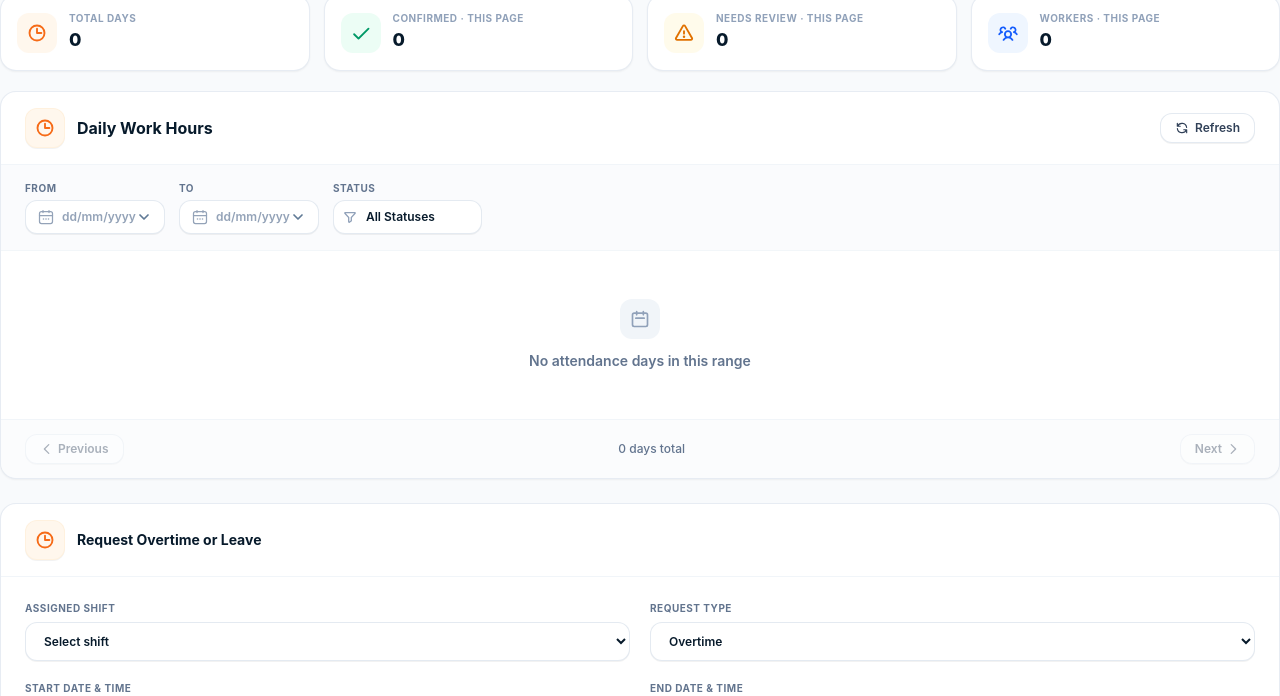
Test: MF03 interactive UI › hides past workdays and exposes separate overtime dates and times with shift defaults
This screenshot has width=1280, height=696.
Select "2030-10-08 · Morning · 08:00–17:00 (Asia/Ho_Chi_Minh)" in the dropdown labelled "Assigned shift": [328, 642] box left=25, top=622, right=630, bottom=661
(page scrolled)
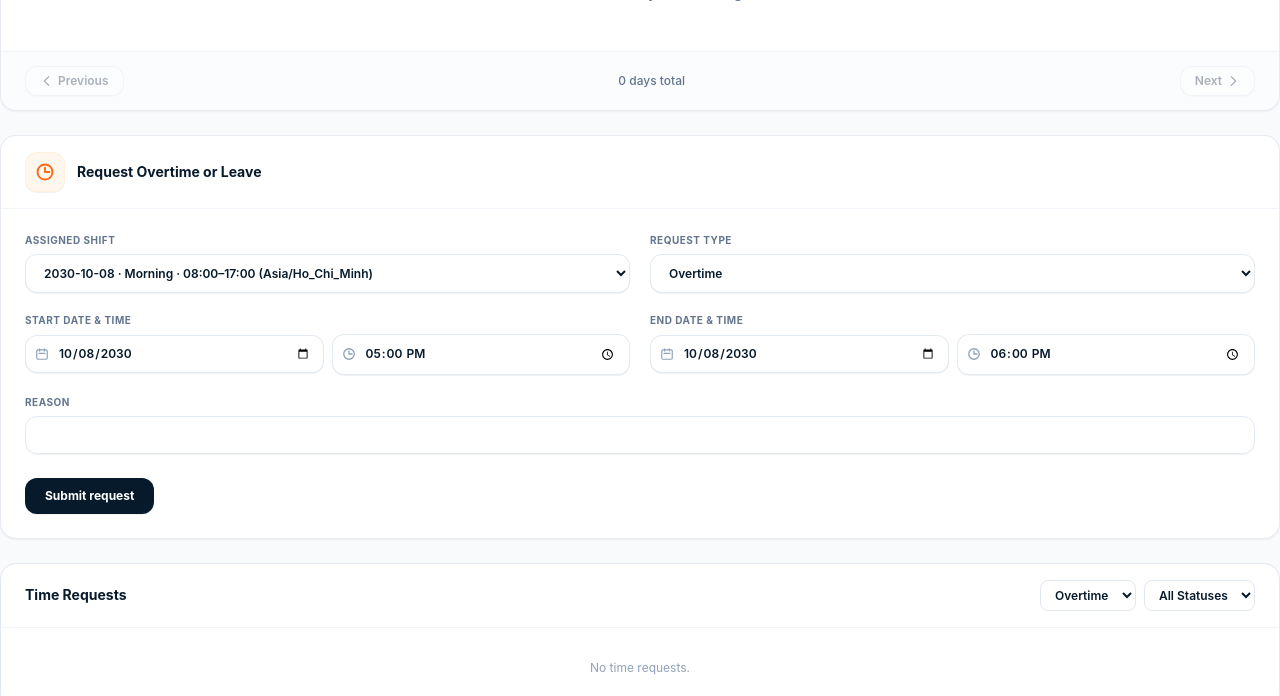
Expected: the date field named "Start date" holds "2030-10-08", left=25, top=335, right=324, bottom=373
Expected: the time field named "Start time" holds "17:00"
Expected: the time field named "End time" holds "18:00", left=956, top=334, right=1255, bottom=375
Replace the text in the time field named "Start time" with "16:00": [481, 354] box left=332, top=334, right=630, bottom=375
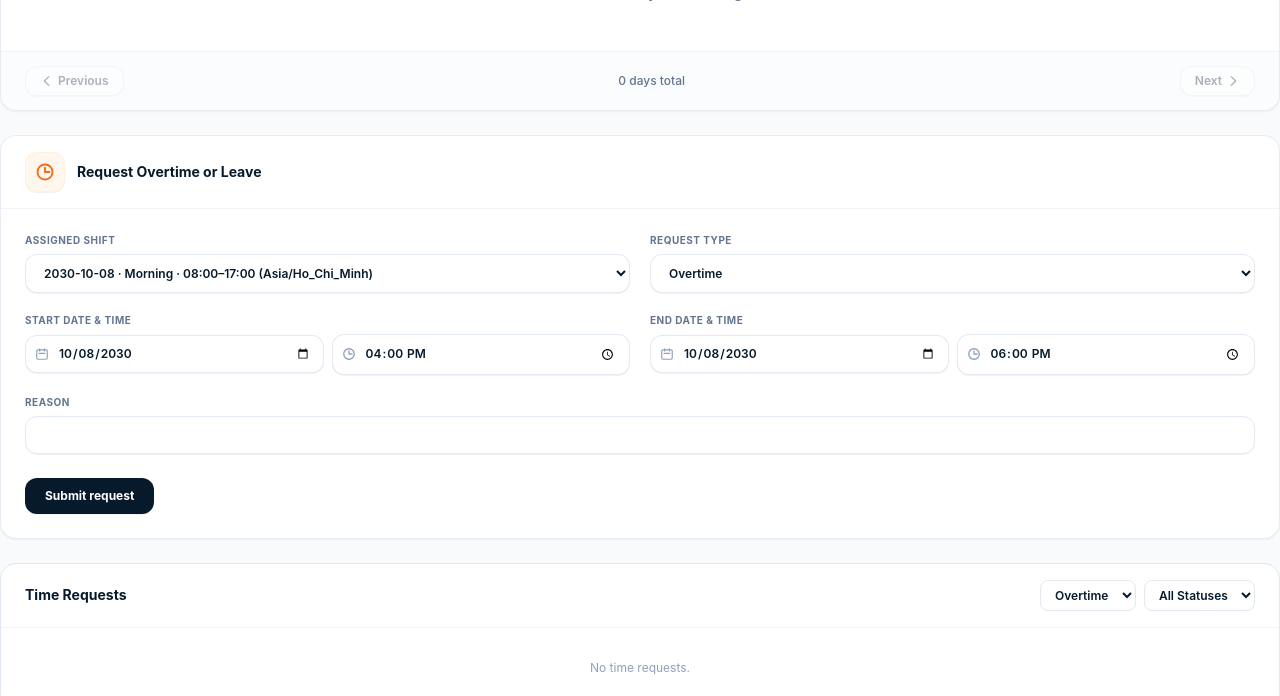
In the field labelled "Reason": [640, 435] box left=25, top=416, right=1255, bottom=454, type "Finish work"
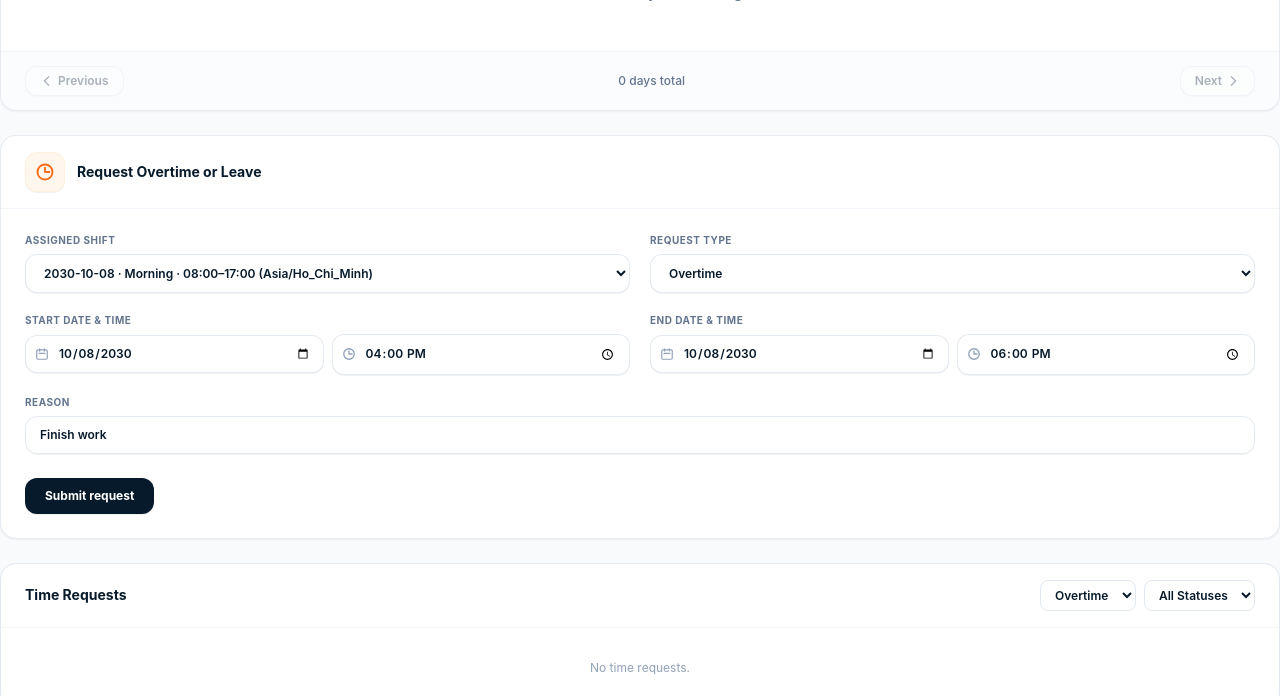
Click the button "Submit request": [90, 496] box left=25, top=478, right=154, bottom=514
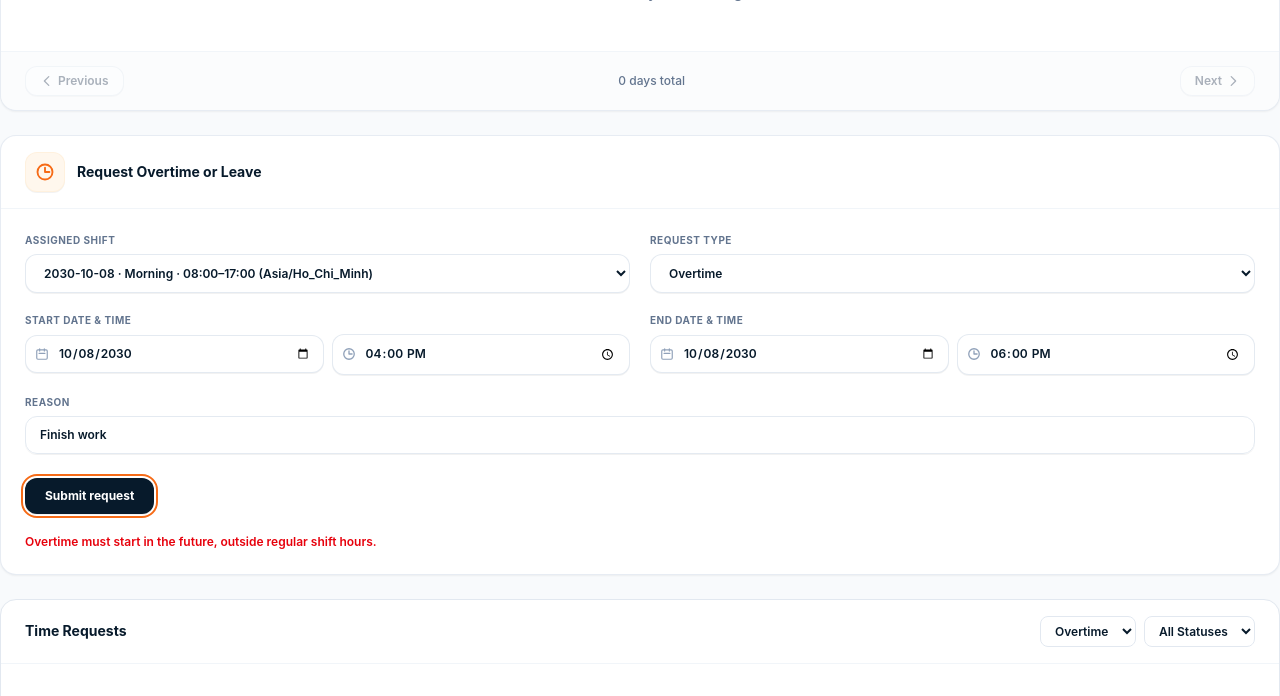
Select "Leave (whole or partial shift)" in the dropdown labelled "Request Type": [952, 274] box left=650, top=254, right=1255, bottom=293
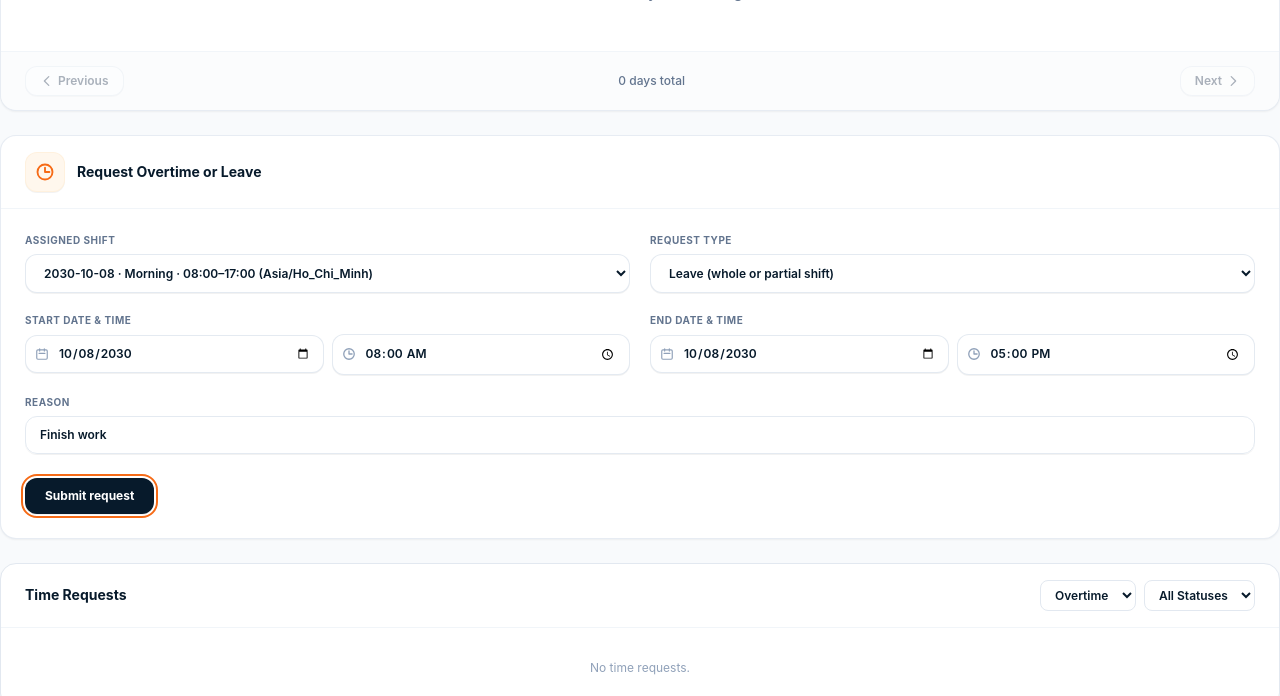
Expected: the time field named "Start time" holds "08:00", left=332, top=334, right=630, bottom=375
Expected: the time field named "End time" holds "17:00", left=956, top=334, right=1255, bottom=375
